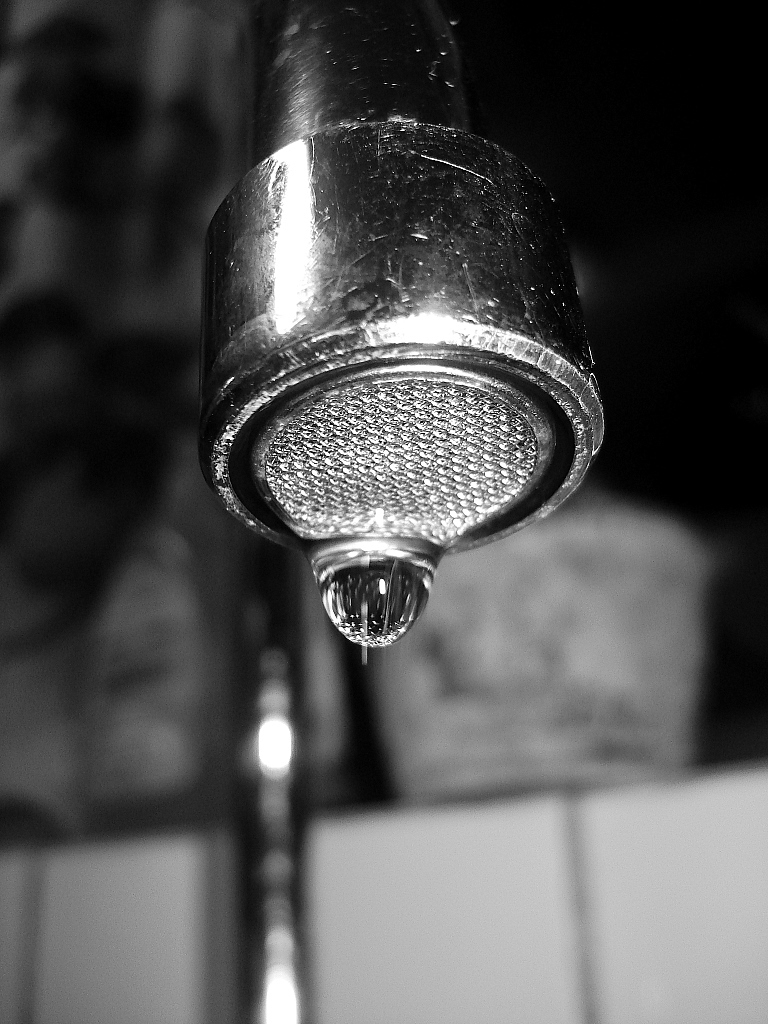tap: (221, 0, 602, 1020)
